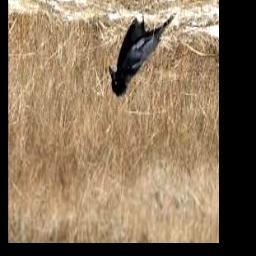Crow: (109, 12, 175, 99)
